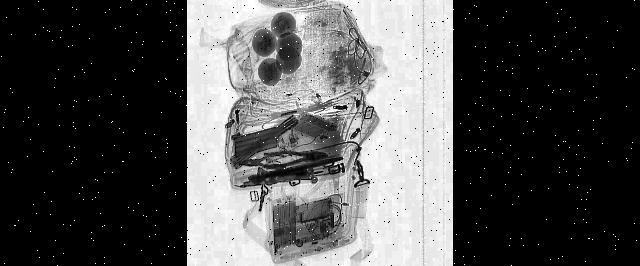Pliers: (264, 144, 328, 170)
